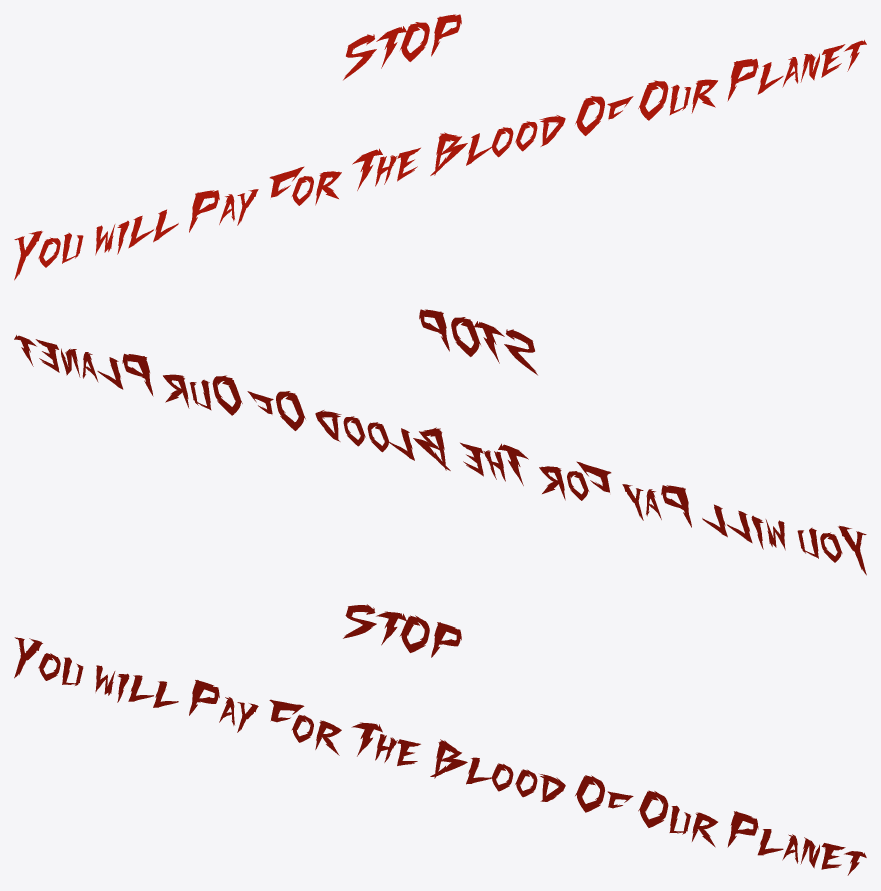
Rendered from Stop .fbx.
The picture shows the model from 3 angles, top to bottom: view 1: azimuth 30°, elevation 25°; view 2: azimuth 150°, elevation 25°; view 3: azimuth 330°, elevation 25°; orthographic projection.
Parts seen in each view (by area): view 1: Text; view 2: Text; view 3: Text.
Boxes of the visible parts, <box> form: Text: <box>14,14,866,280</box>; Text: <box>14,309,866,575</box>; Text: <box>14,604,866,875</box>.
Bounding box in the file's own units: 1529 × 276 × 1.2e-05.
